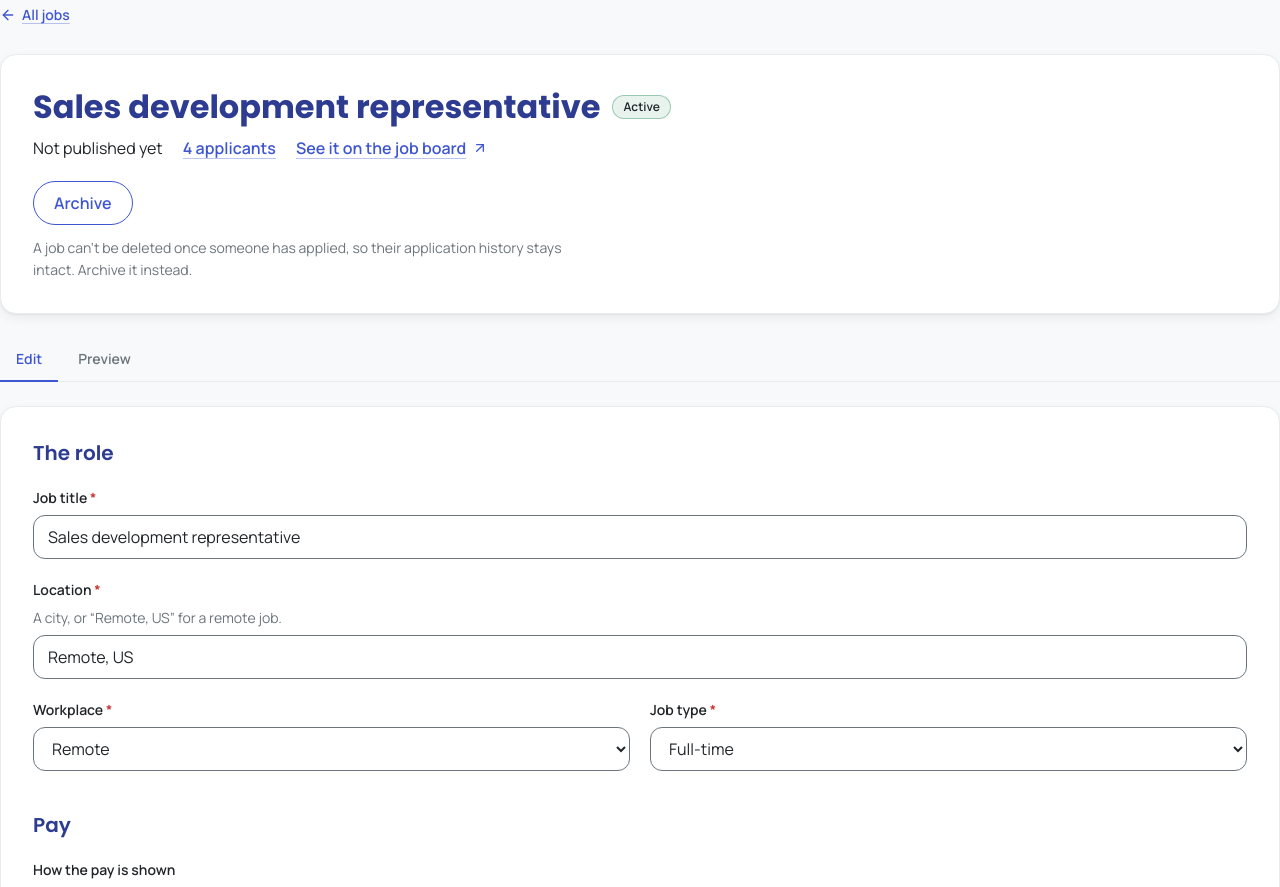
Test: JobEditor › warns that archiving closes open applications and emails those applicants
Click the button "Archive". click: (83, 203)
box: [33,181,133,225]
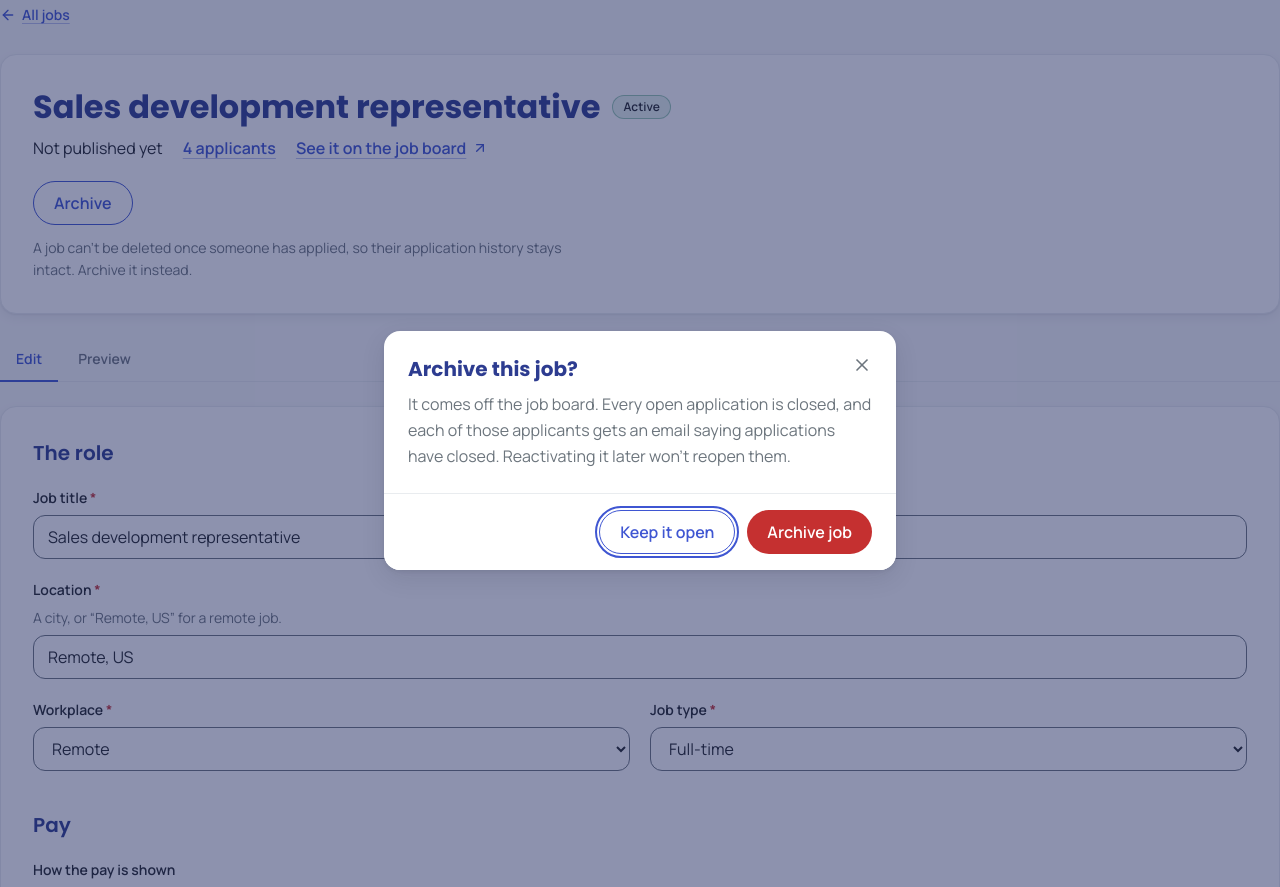
Now the dialog "Archive this job?" shows "It comes off the job board. Every open application is closed, and each of those applicants gets an email saying applications have closed.", box [408,392,871,466]
Now the dialog "Archive this job?" shows "Reactivating it later won’t reopen them", box [408,392,871,466]
Click the button "Archive job". click: (810, 532)
box: [747,510,872,554]
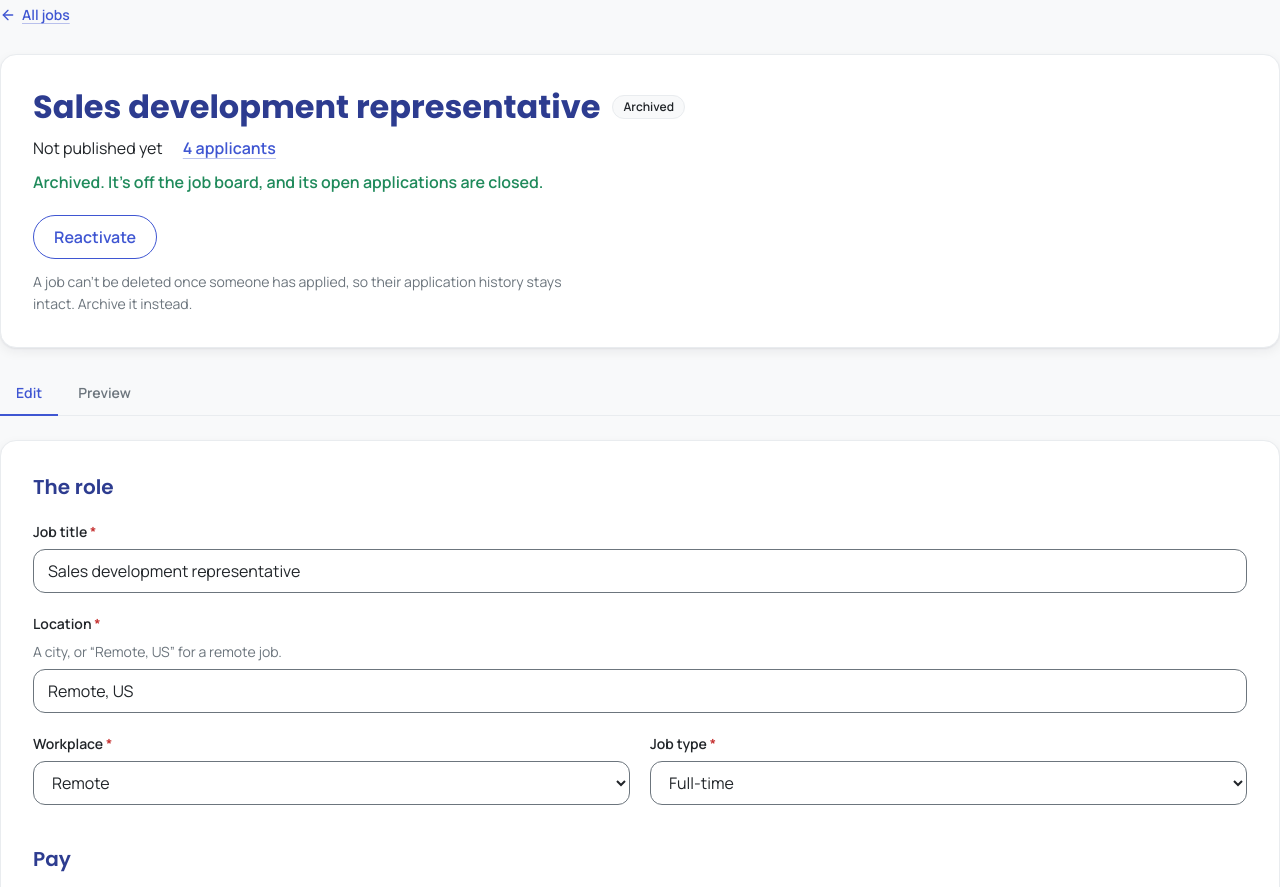
Now the text "Archived" is shown, box [612,95,685,119]
